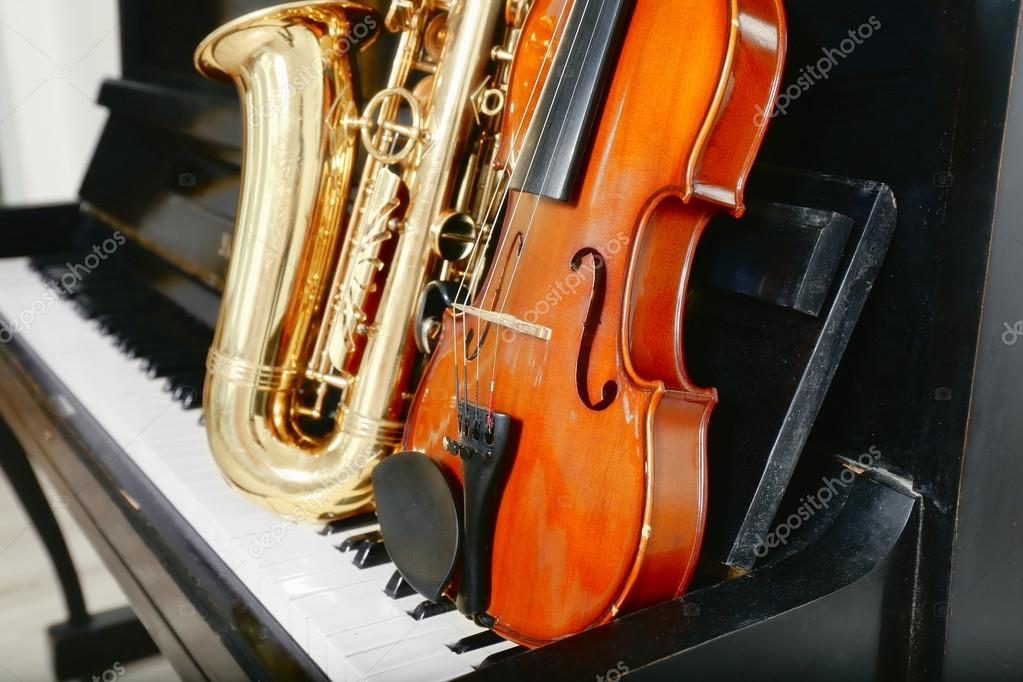Piano: (1, 7, 911, 682)
Saxophone: (159, 3, 517, 541)
Violin: (369, 1, 764, 628)
